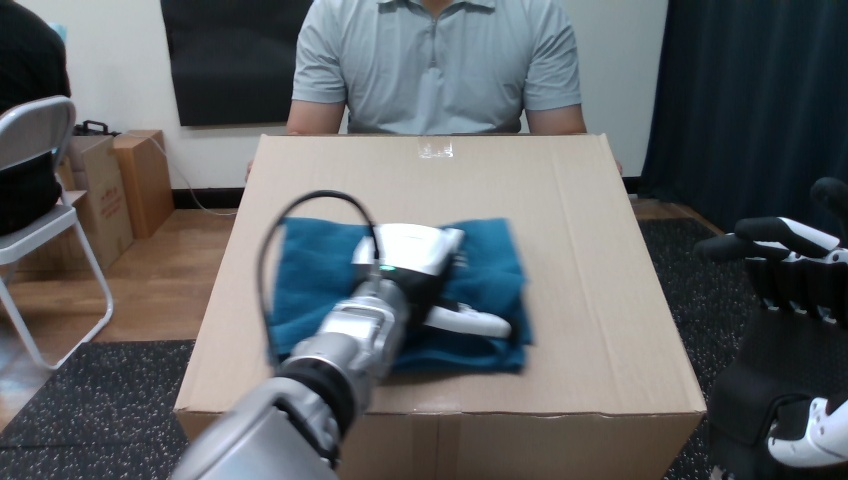left robot arm: (173, 223, 510, 478)
left robot hand: (173, 191, 510, 478)
right robot arm: (173, 223, 510, 478)
right robot hand: (173, 191, 510, 478), (696, 217, 847, 327)
